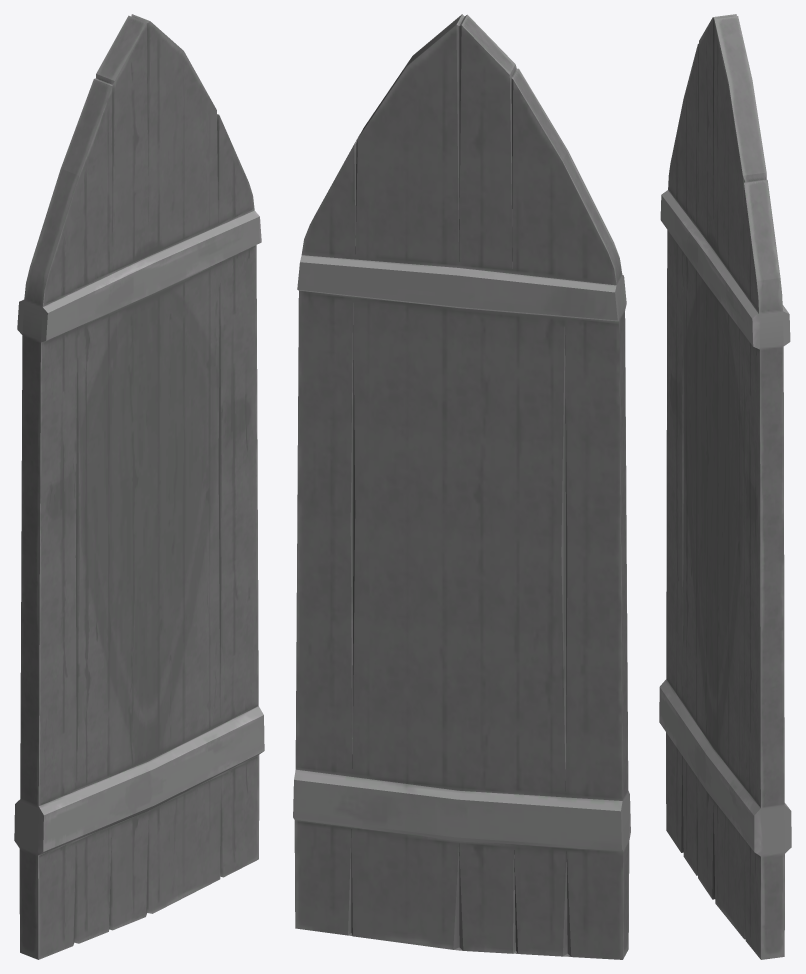
Rendered from ShortcutDoorStatic.fbx.
3 views of the same model, side by side, from view 1: azimuth 30°, elevation 25°; view 2: azimuth 150°, elevation 25°; view 3: azimuth 270°, elevation 25° (orthographic). The views are drawn at different scales.
Parts seen in each view (by area): view 1: woodDoor, MetalRim; view 2: woodDoor, MetalRim; view 3: woodDoor, MetalRim.
Boxes of the visible parts, <box> form: woodDoor: <box>19,14,259,959</box>; MetalRim: <box>14,210,264,855</box>; woodDoor: <box>294,14,629,959</box>; MetalRim: <box>293,255,630,851</box>; woodDoor: <box>666,14,784,959</box>; MetalRim: <box>659,190,791,856</box>.
Bounding box in the file's own units: 4.71 × 14.4 × 1.96.
